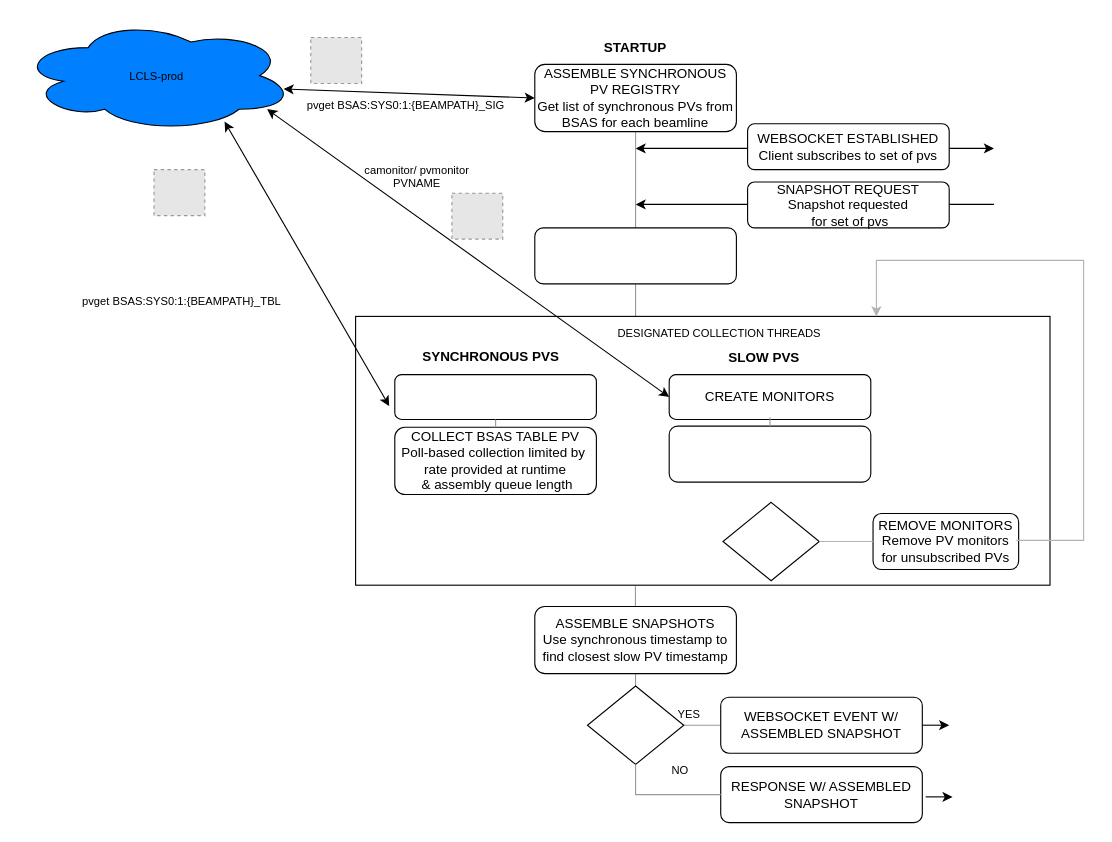
The diagram is 1112 pixels wide and 842 high, and some of its shapes have lost their labels. Grey dashed boxes stand in for pictures. Here are the shapes that lost their labels. From the top down, the centre of each, then its label:
the point at 635,255: CHECK MEMBERSHIP IN BEAMLINE SYNCHRONOUS REGISTRY
the point at 495,396: CHECK BSAS PV STATUS
the point at 769,453: COLLECT VALUES OVER TIME WINDOW
the point at 770,541: Subscription?
the point at 635,724: Subscriptions?
